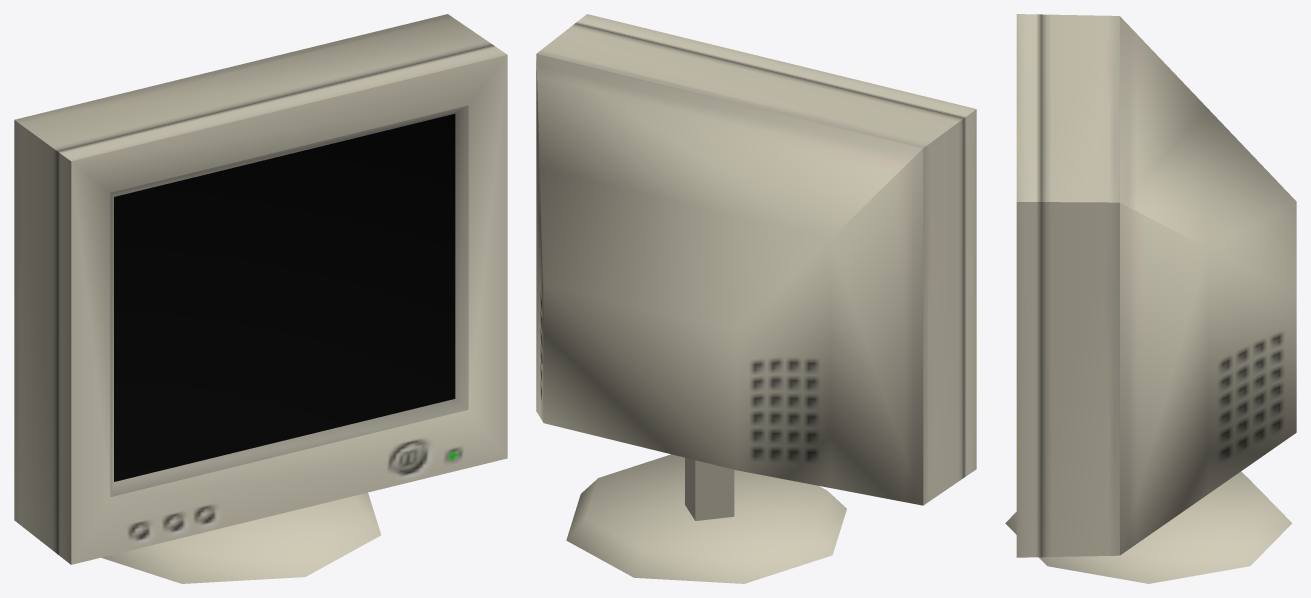
Rendered from obj_ui_gizb_monitor.obj.
The picture shows the model from 3 angles, left to right: view 1: azimuth 30°, elevation 25°; view 2: azimuth 150°, elevation 25°; view 3: azimuth 270°, elevation 25°; orthographic projection. The views are drawn at different scales.
Parts seen in each view (by area): view 1: mesh0; view 2: mesh0; view 3: mesh0.
Boxes of the visible parts, x1,y1,x2,y2 form: mesh0: (14,14,507,583); mesh0: (536,14,976,583); mesh0: (1005,14,1296,583).
Size of the model in its own units: 0.3815 by 0.3895 by 0.2503.
1 material, 1 textured.
